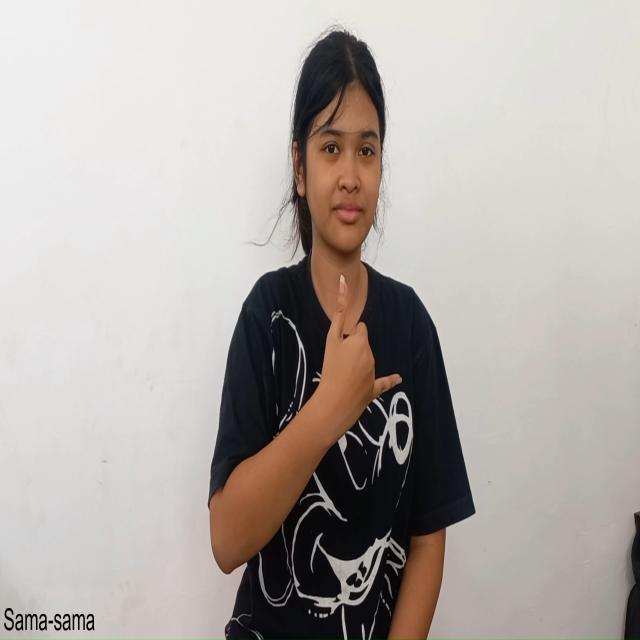Sama-sama -BISINDO-: (317, 273, 403, 453)
